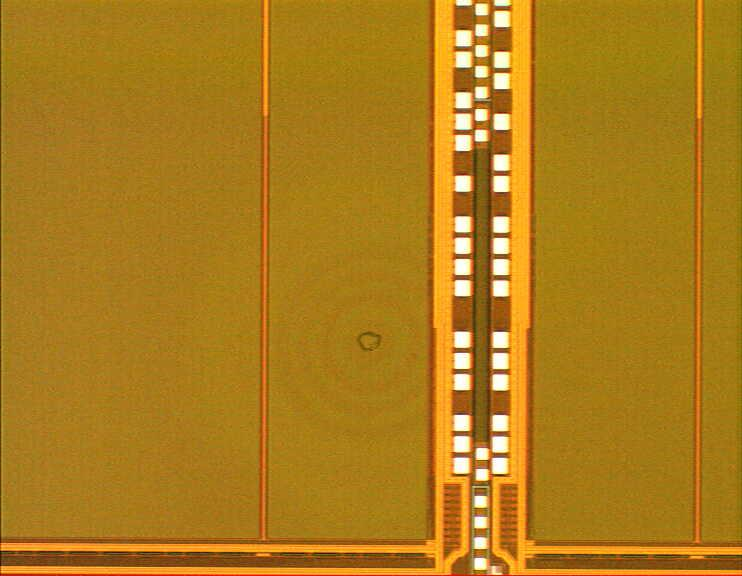PIQ PARTICLE: (356, 327, 385, 355)
